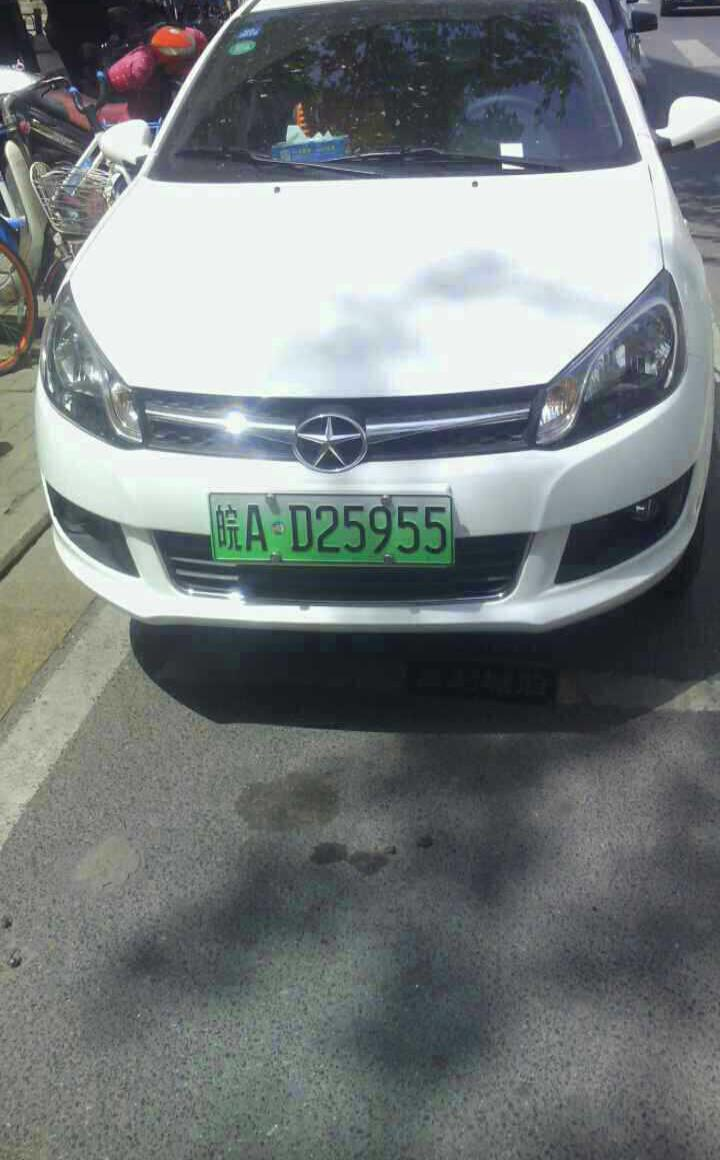car: (207, 485, 470, 571)
